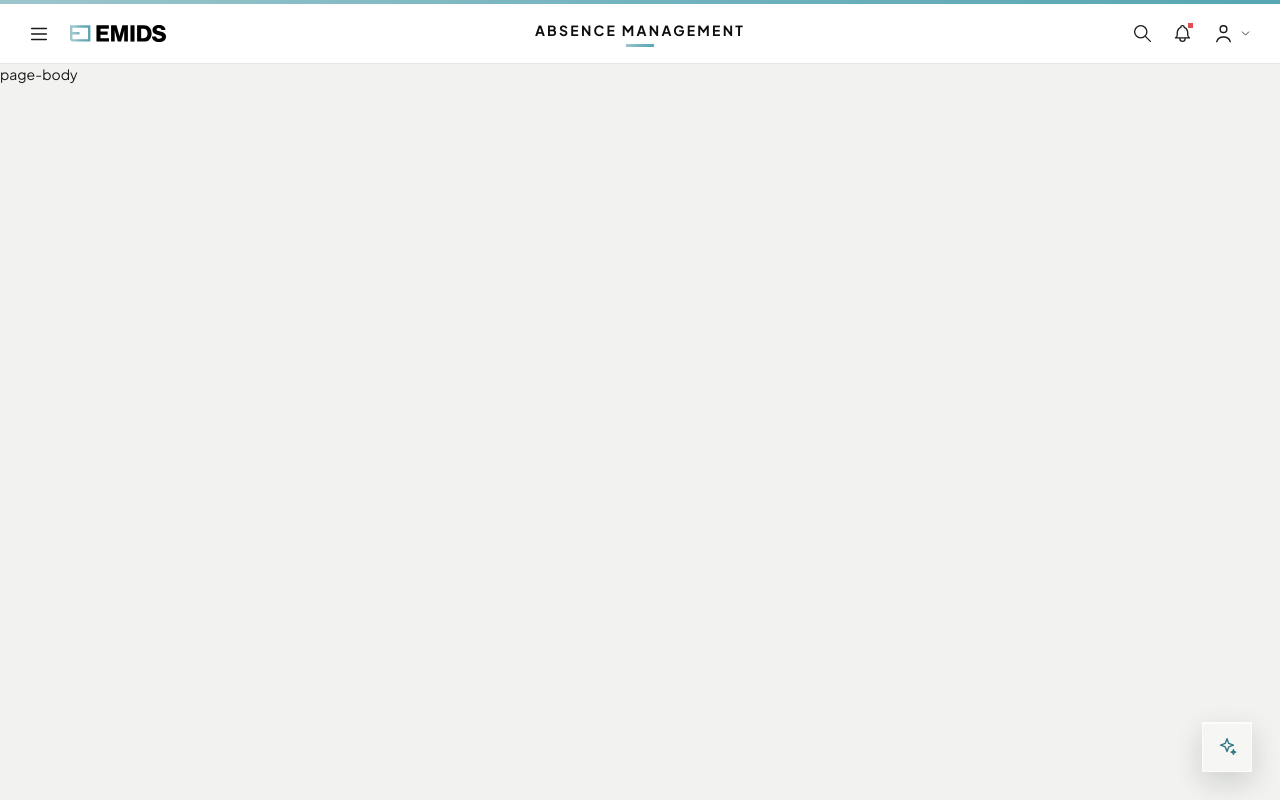
components/Layout › decorates the queue link with the pending badge from the team state
The width and height of the screenshot is (1280, 800).
Click the button named "Menu".
click(39, 34)  # box 20,14 -> 58,52
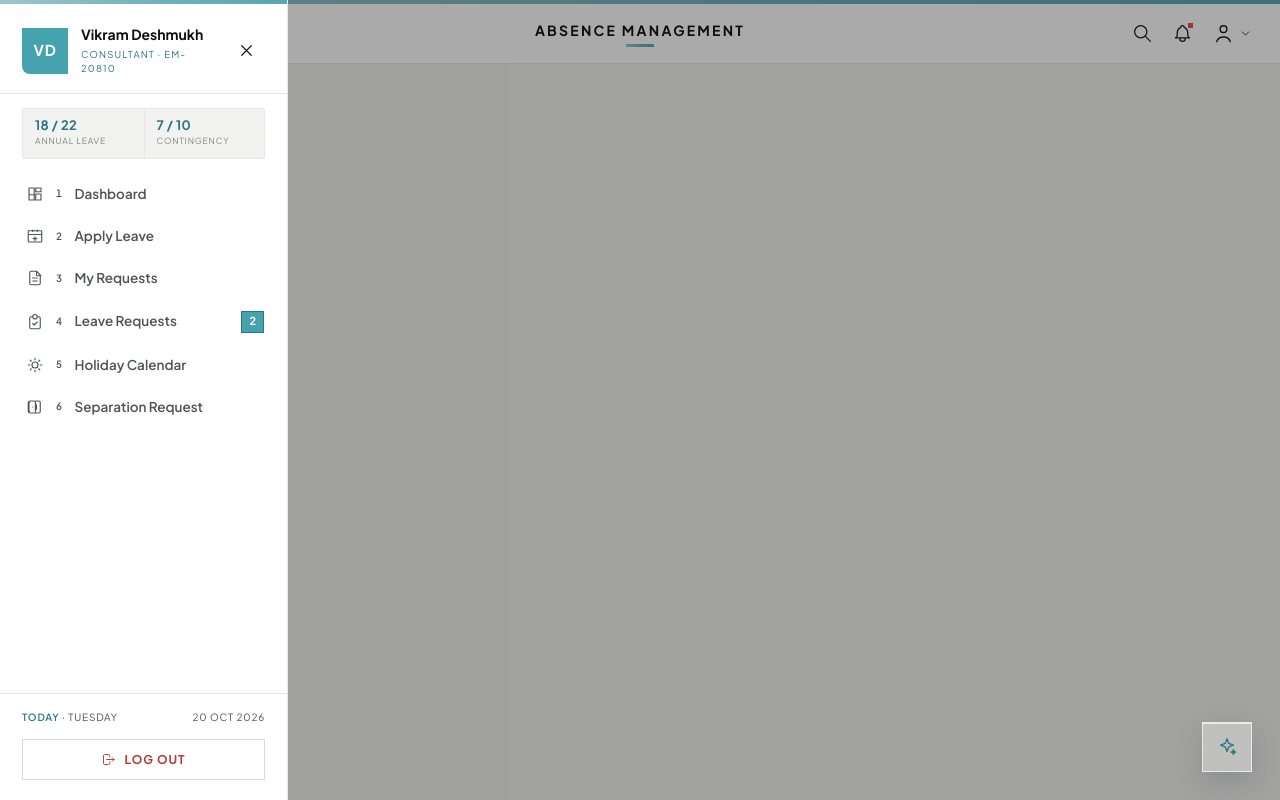
Expected: the text with class "nav-item__badge" reads "2", 249,314 -> 256,327
